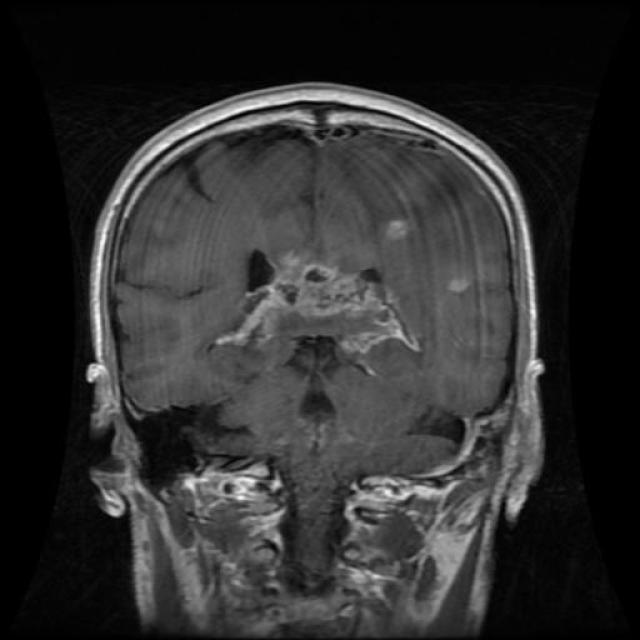glioma: (211, 242, 431, 366)
